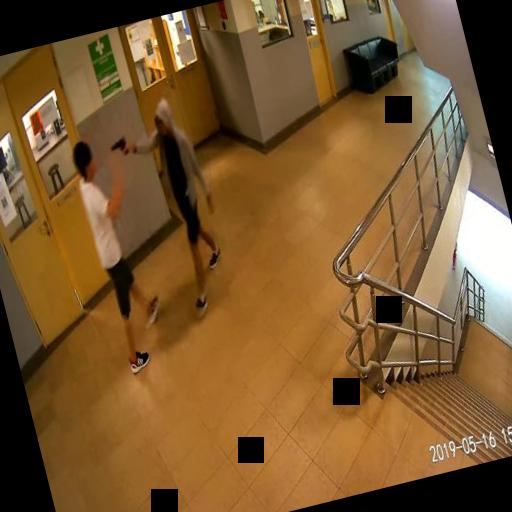Handgun: (108, 135, 128, 159)
